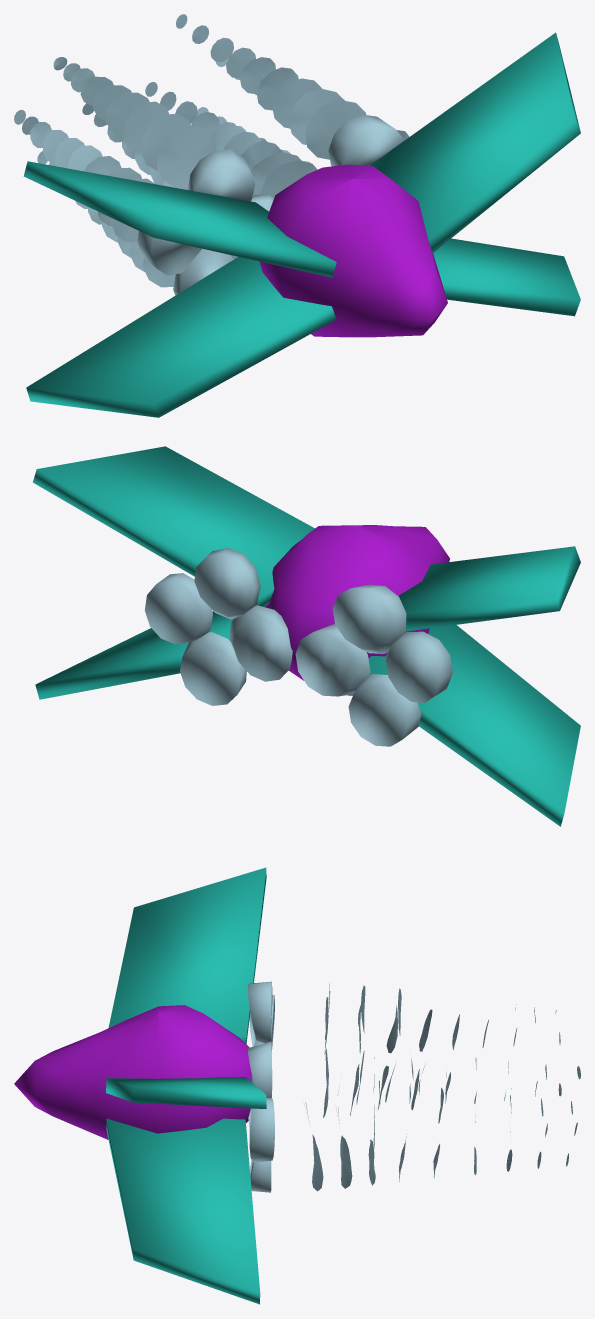
File: ship_22.gltf
3 renders of one model, top to bottom at view 1: azimuth 30°, elevation 25°; view 2: azimuth 150°, elevation 25°; view 3: azimuth 270°, elevation 25°, orthographic. The views are drawn at different scales.
Parts seen in each view (by area): view 1: gtlf; view 2: gtlf; view 3: gtlf.
Part boxes in pixels (x1=…): gtlf: x1=14, y1=14, x2=580, y2=417; gtlf: x1=33, y1=446, x2=580, y2=826; gtlf: x1=14, y1=867, x2=580, y2=1304.
Size of the model in its own units: 2.04 by 0.861 by 2.11.
